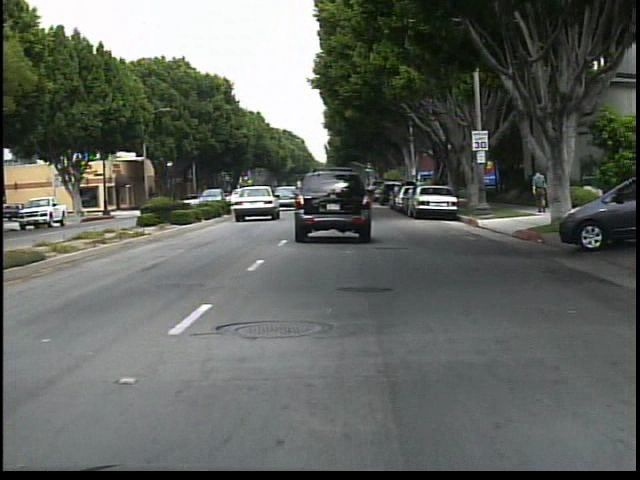person: (528, 166, 550, 217)
